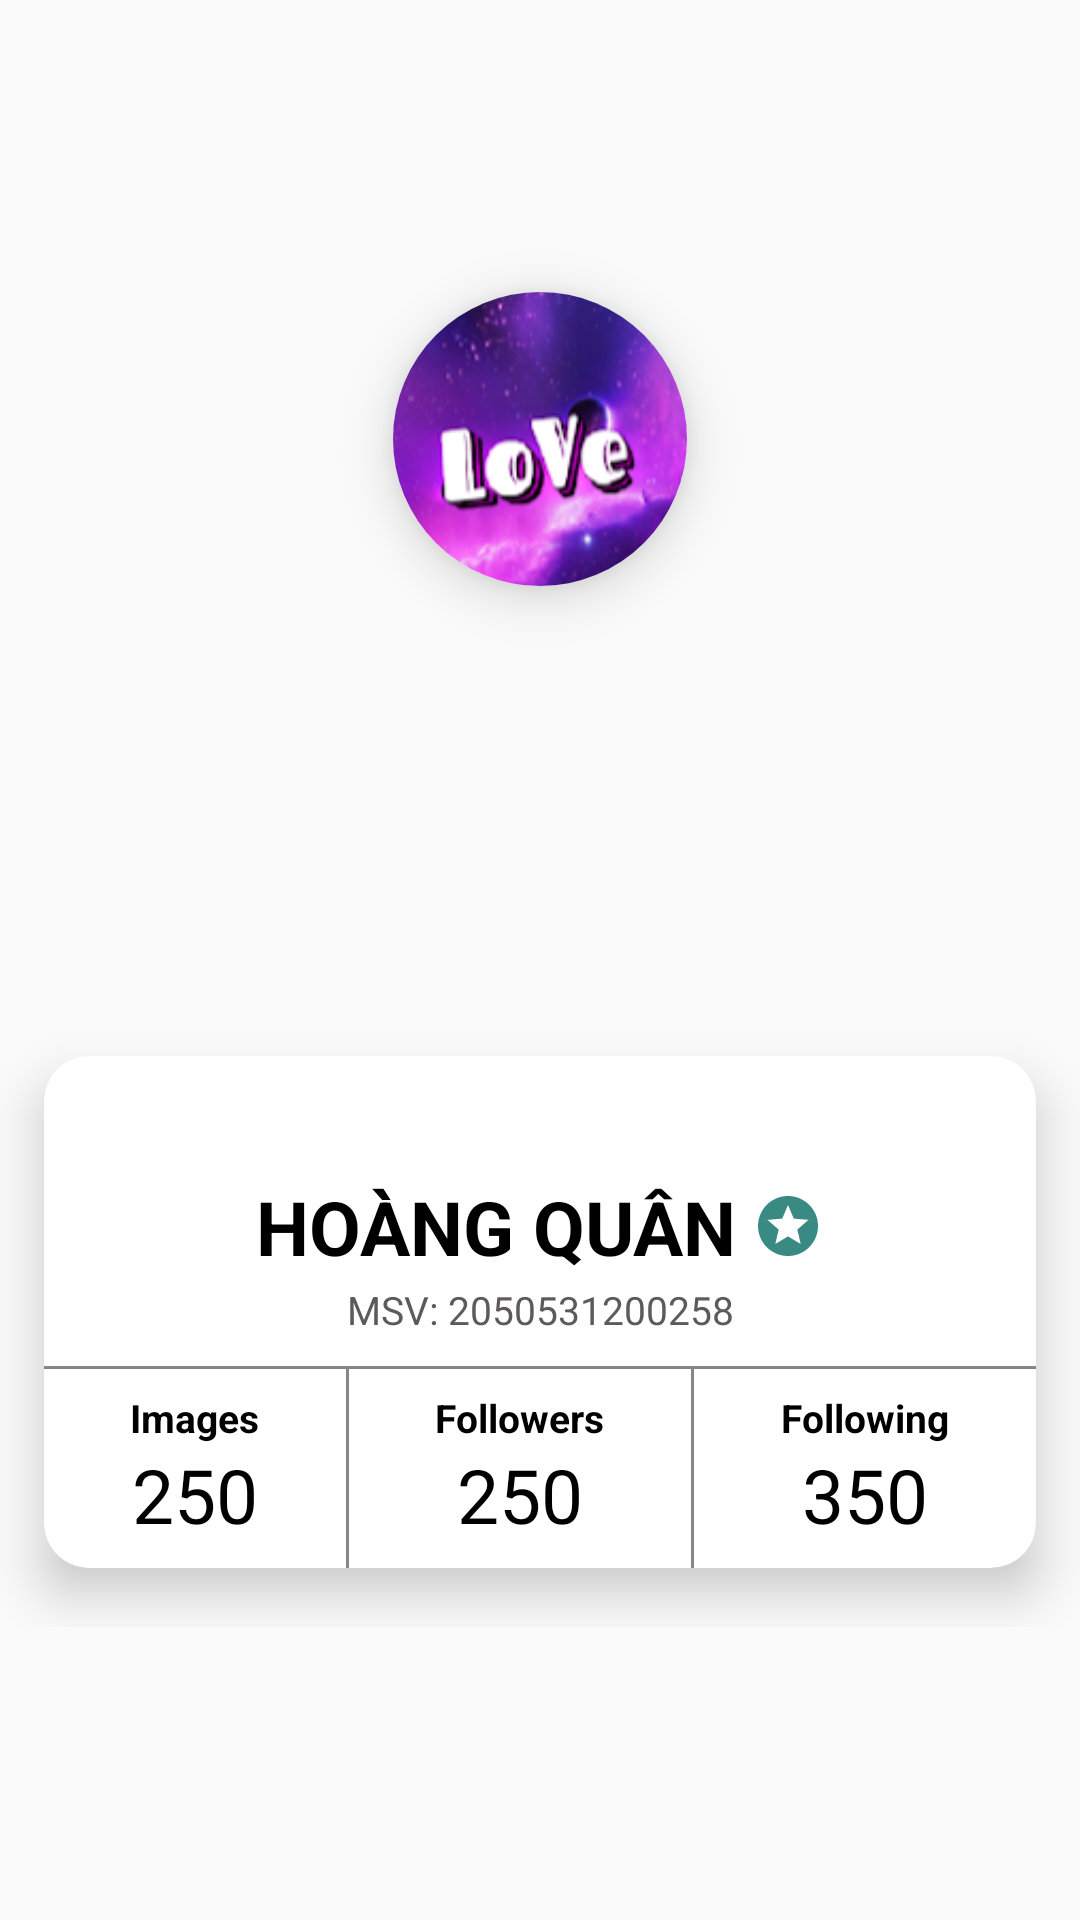

Icons on this 1080w x 1920h Android screen, each with its box as (x1, y1, x2, y2):
stars: (758, 1196, 818, 1256)
